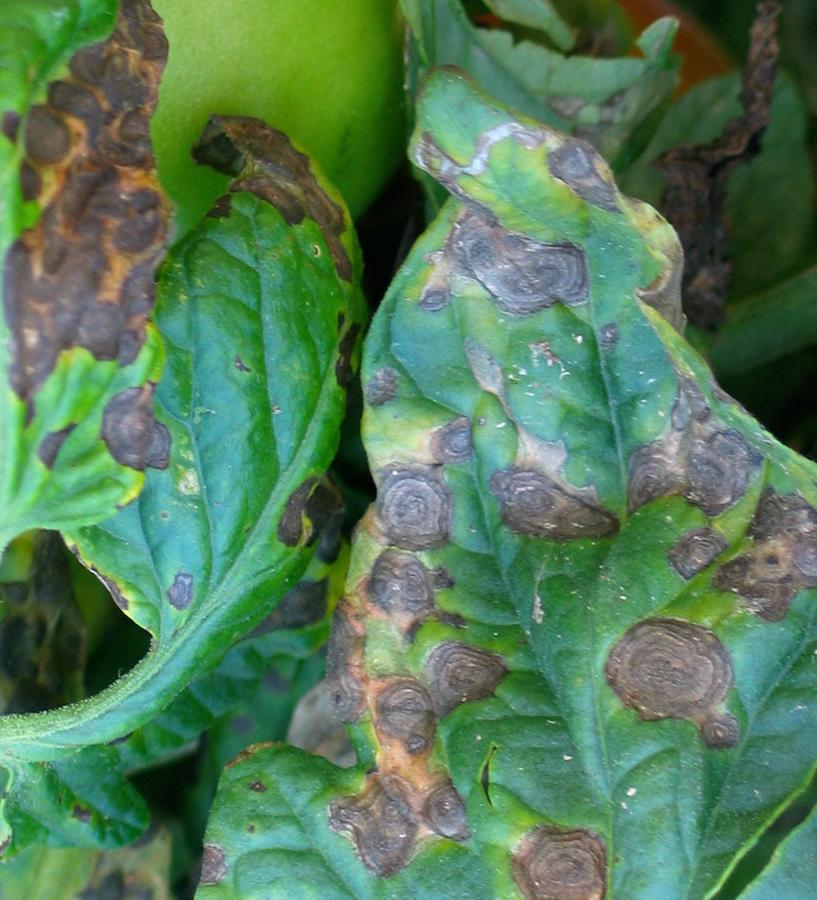Tomato Early blight leaf: (145, 94, 817, 900), (117, 82, 405, 650), (0, 0, 254, 568)
